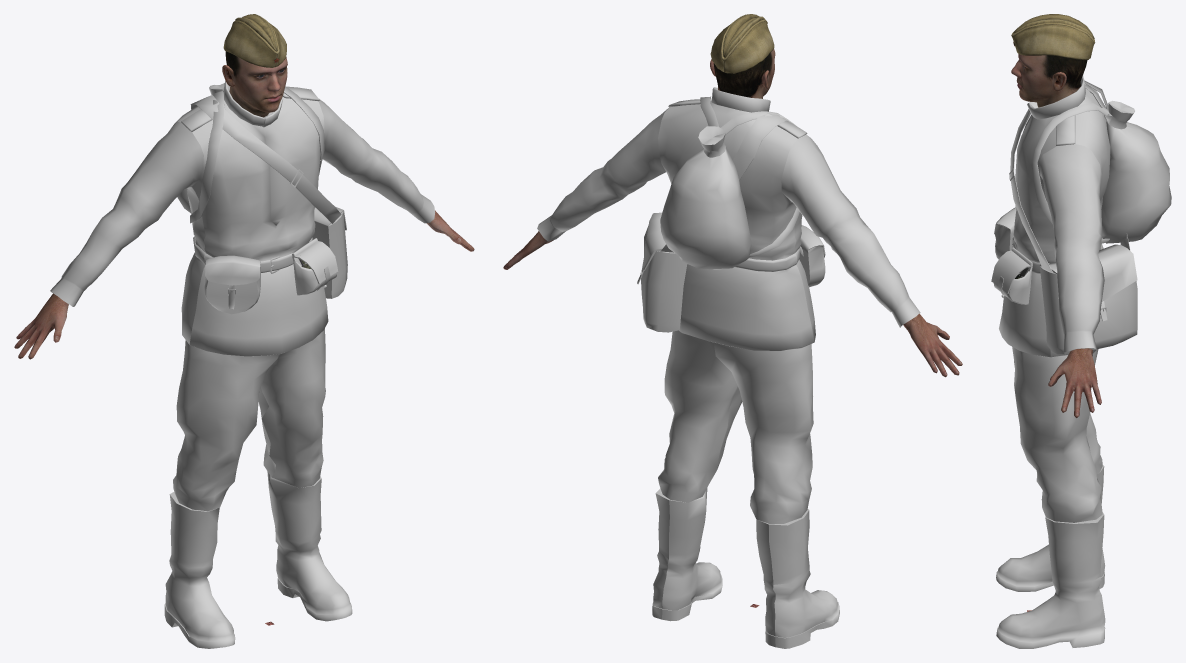
File: soldier.fbx
The picture shows the model from 3 angles, left to right: view 1: azimuth 30°, elevation 25°; view 2: azimuth 150°, elevation 25°; view 3: azimuth 270°, elevation 25°; orthographic projection.
Parts seen in each view (by area): view 1: lib_rus_soldier.014, lib_rus_soldier.005, lib_rus_soldier.006, lib_rus_soldier.003, lib_rus_soldier.017, lib_rus_soldier.002, lib_rus_soldier.004, lib_rus_soldier.009; view 2: lib_rus_soldier.014, lib_rus_soldier.002, lib_rus_soldier.005, lib_rus_soldier.017, lib_rus_soldier.004, lib_rus_soldier.003, lib_rus_soldier.006; view 3: lib_rus_soldier.014, lib_rus_soldier.002, lib_rus_soldier.005, lib_rus_soldier.017, lib_rus_soldier.003, lib_rus_soldier.004, lib_rus_soldier.009, lib_rus_soldier.006.
Boxes of the visible parts, bbox=[...] form: lib_rus_soldier.014: bbox=[50, 80, 435, 648]; lib_rus_soldier.005: bbox=[190, 95, 347, 298]; lib_rus_soldier.006: bbox=[204, 255, 260, 314]; lib_rus_soldier.003: bbox=[222, 51, 287, 117]; lib_rus_soldier.017: bbox=[223, 14, 286, 67]; lib_rus_soldier.002: bbox=[177, 83, 324, 223]; lib_rus_soldier.004: bbox=[14, 210, 474, 359]; lib_rus_soldier.009: bbox=[292, 238, 338, 295]; lib_rus_soldier.014: bbox=[537, 87, 920, 648]; lib_rus_soldier.002: bbox=[660, 96, 799, 270]; lib_rus_soldier.005: bbox=[637, 113, 788, 332]; lib_rus_soldier.017: bbox=[710, 14, 774, 73]; lib_rus_soldier.004: bbox=[503, 231, 962, 377]; lib_rus_soldier.003: bbox=[710, 49, 775, 98]; lib_rus_soldier.006: bbox=[799, 225, 825, 286]; lib_rus_soldier.014: bbox=[996, 75, 1110, 648]; lib_rus_soldier.002: bbox=[1032, 84, 1171, 243]; lib_rus_soldier.005: bbox=[1009, 80, 1137, 354]; lib_rus_soldier.017: bbox=[1011, 14, 1095, 59]; lib_rus_soldier.003: bbox=[1011, 54, 1087, 107]; lib_rus_soldier.004: bbox=[1048, 348, 1101, 417]; lib_rus_soldier.009: bbox=[991, 247, 1032, 304]; lib_rus_soldier.006: bbox=[994, 207, 1016, 259].
Bounding box in the file's own units: 14503 × 18278 × 5021.
